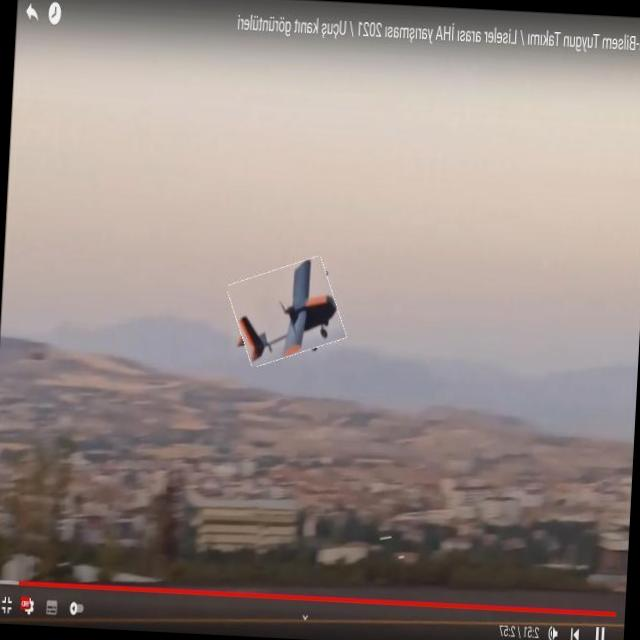UAV: (232, 261, 348, 385)
